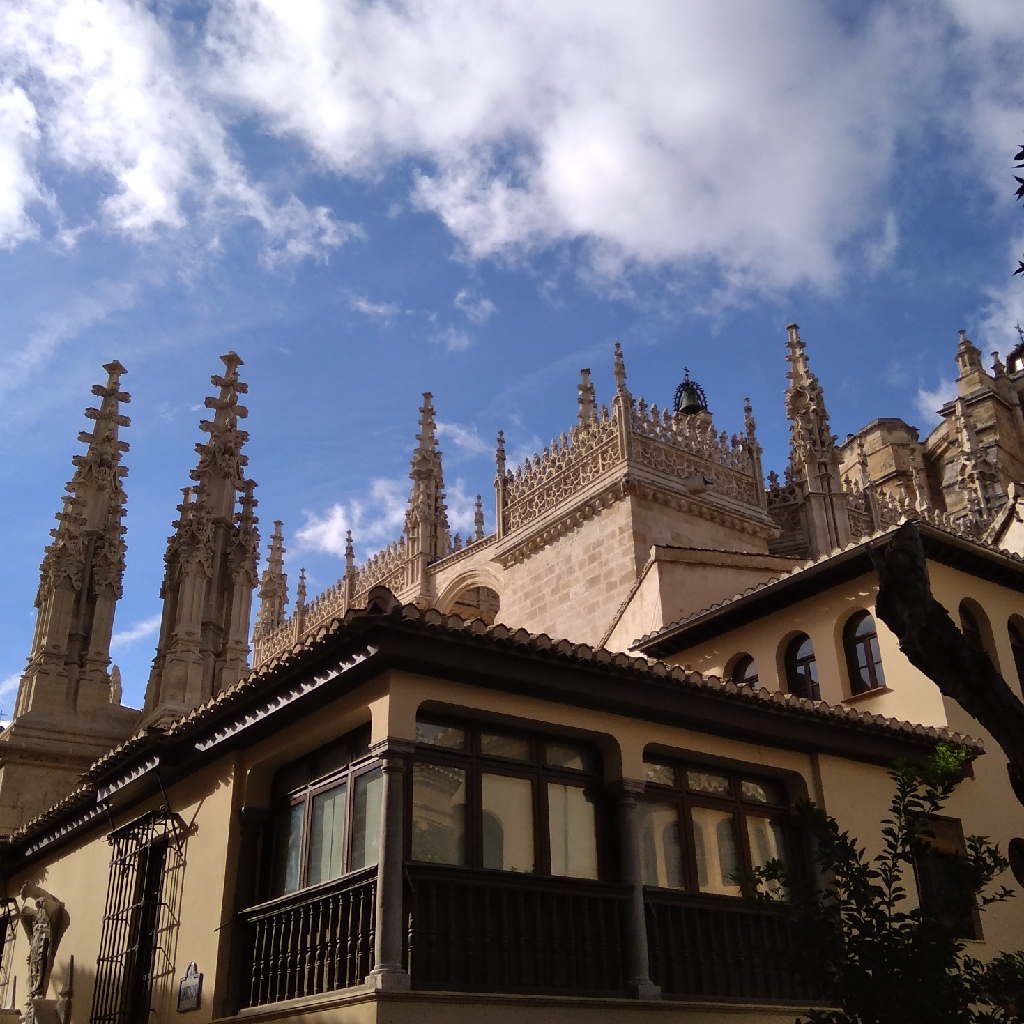pinaculo-gotico: (40, 335, 150, 590), (168, 339, 263, 578), (400, 389, 452, 547), (773, 316, 834, 439)
